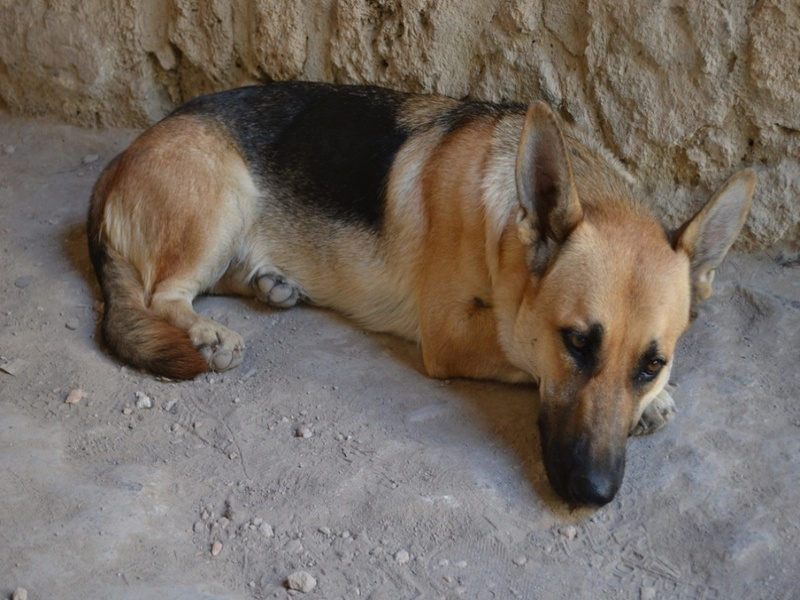dog: (84, 73, 755, 522)
